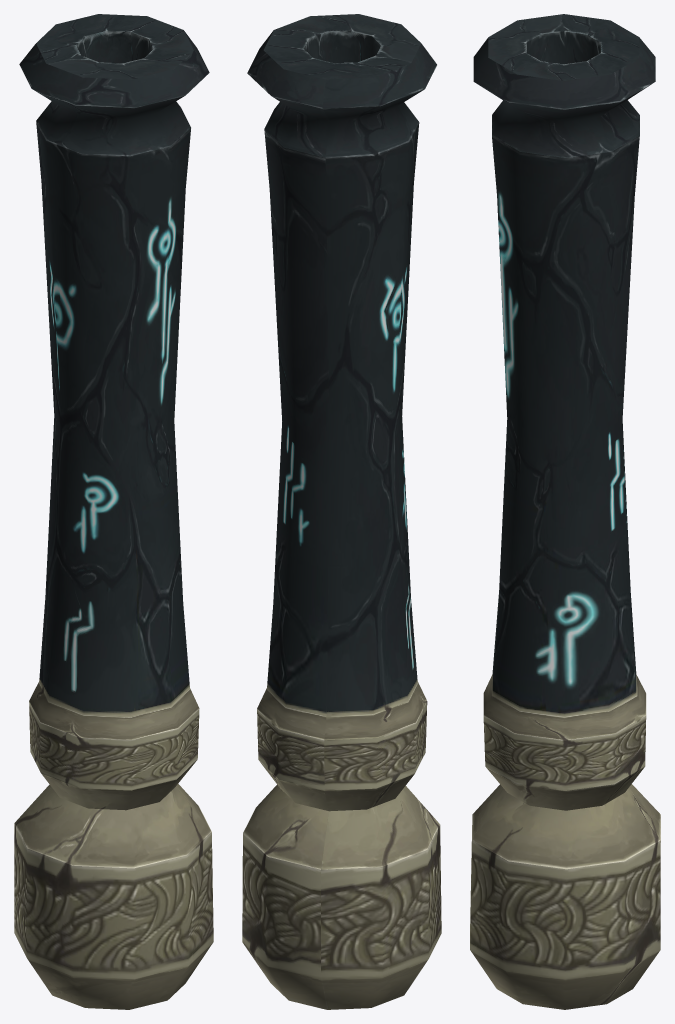
Rendered from pillar_interactable.fbx.
3 views of the same model, side by side, from view 1: azimuth 30°, elevation 25°; view 2: azimuth 150°, elevation 25°; view 3: azimuth 270°, elevation 25° (orthographic).
Visible parts, largest first — view 1: PillarforGame:pCylinder2; view 2: PillarforGame:pCylinder2; view 3: PillarforGame:pCylinder2.
Boxes of the visible parts, x1=… form: PillarforGame:pCylinder2: x1=14, y1=14, x2=213, y2=1009; PillarforGame:pCylinder2: x1=242, y1=14, x2=441, y2=1009; PillarforGame:pCylinder2: x1=470, y1=14, x2=660, y2=1009.
Size of the model in its own units: 1.99 by 10.22 by 1.89.
